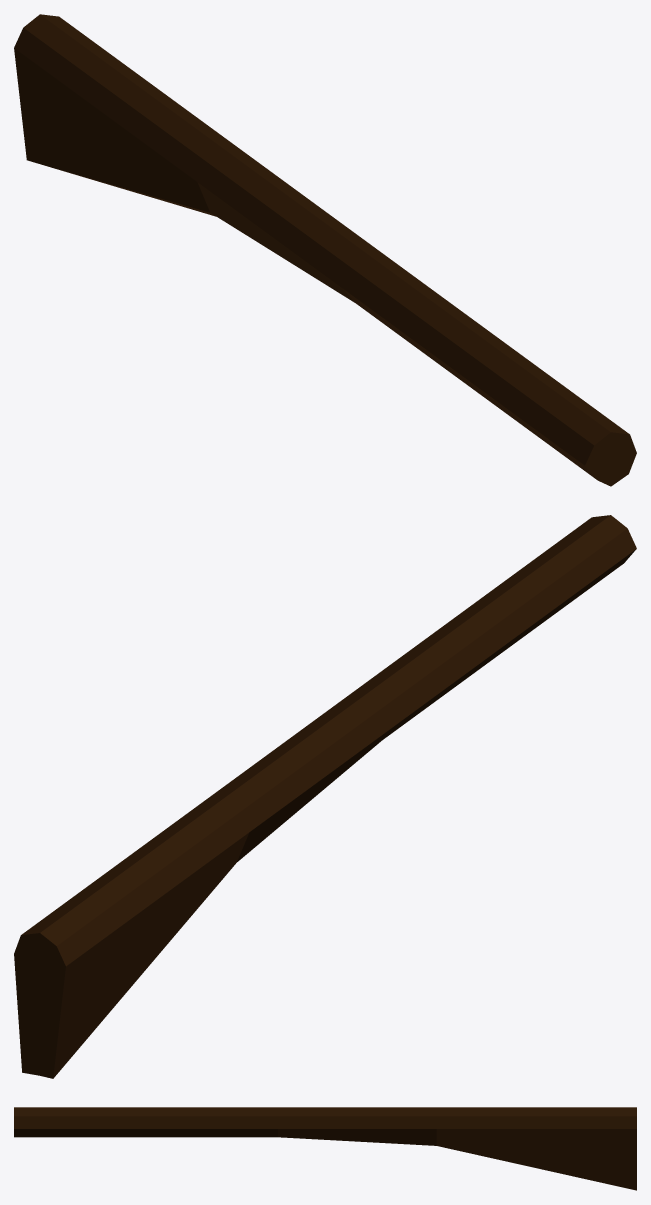
Rendered from rifle.glb.
3 renders of one model, top to bottom at view 1: azimuth 30°, elevation 25°; view 2: azimuth 150°, elevation 25°; view 3: azimuth 270°, elevation 25°, orthographic. The views are drawn at different scales.
Parts seen in each view (by area): view 1: Cube.001; view 2: Cube.001; view 3: Cube.001.
Boxes of the visible parts, x1,y1,x2,y2 form: Cube.001: (14, 14, 636, 486); Cube.001: (14, 515, 636, 1078); Cube.001: (14, 1107, 636, 1190).
Bounding box in the file's own units: 0.02 × 0.0529 × 0.3802.
